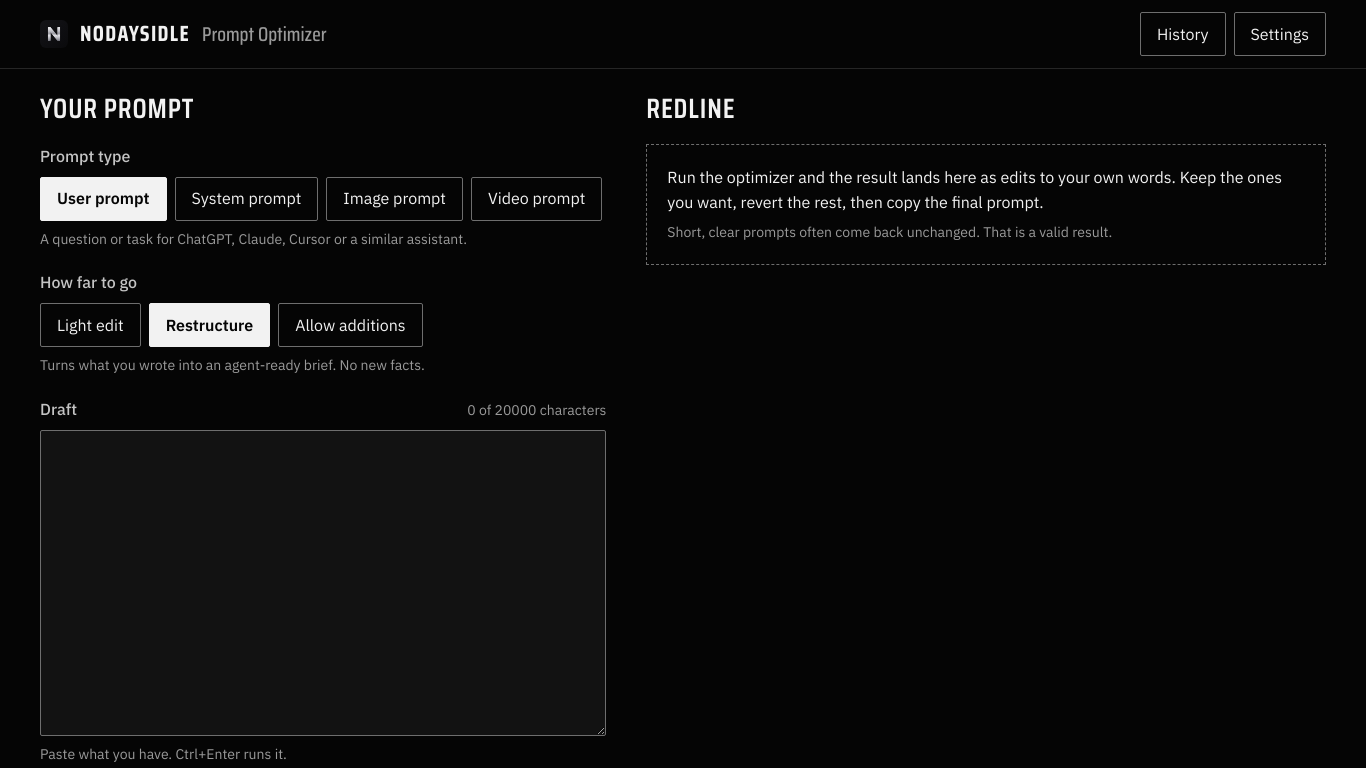
Scenario: running the optimizer › shows a clear message and the request id when the run fails, and can run again
Type "Translate hello into French." into the text box labelled "Draft" at (323, 583), box [40,430,606,736]
(page scrolled)
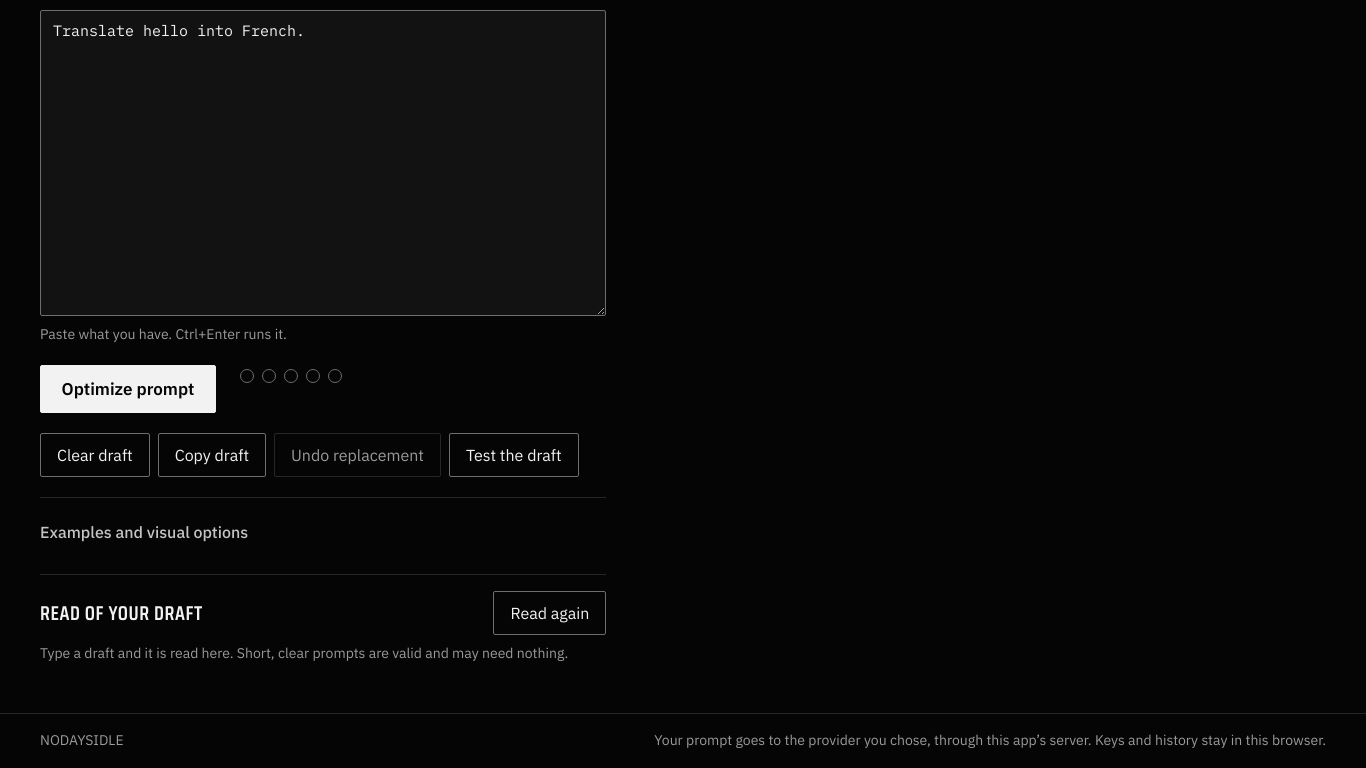
Click the button "Optimize prompt" at (128, 389), box [40,365,216,413]
(page scrolled)
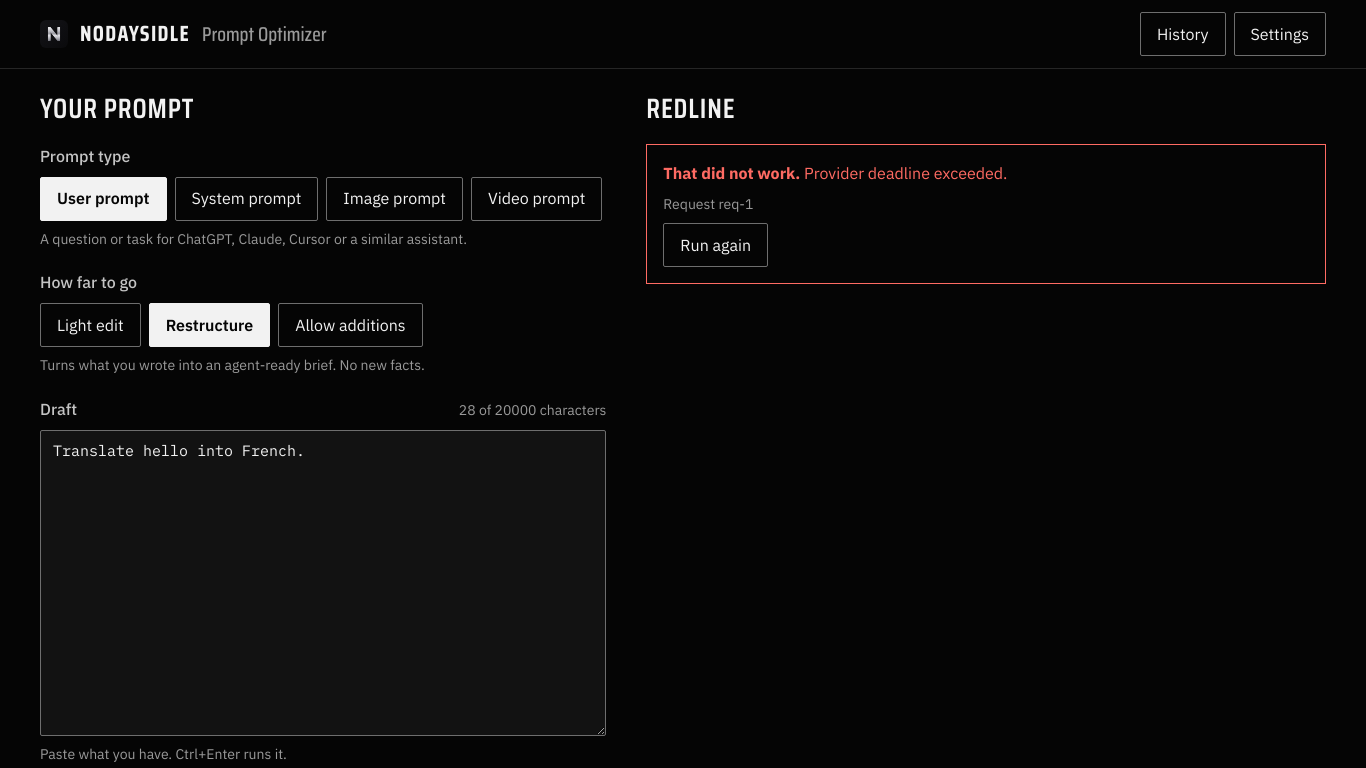
Expected: the message shows "Provider deadline exceeded.", [804,163,1008,183]
Expected: the message shows "req-1", [718,195,753,213]
Expected: the button "Run again" is shown, [663,223,768,267]
